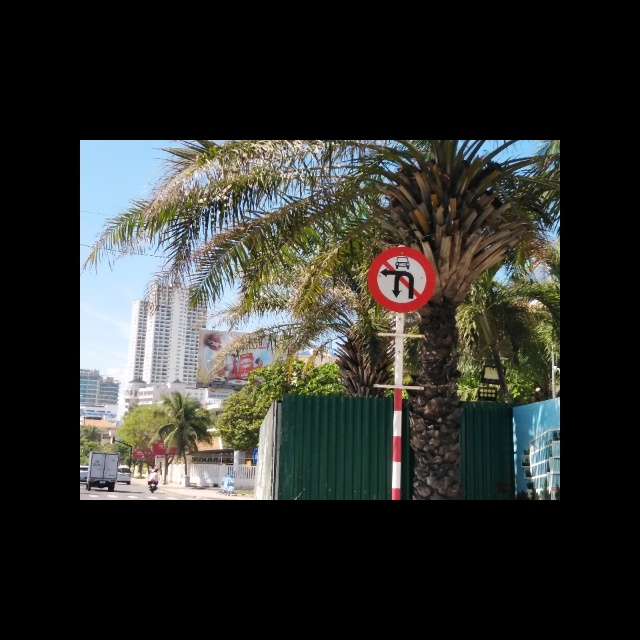Cấm xe ô tô quay đầu và rẽ trái: (366, 244, 437, 317)
